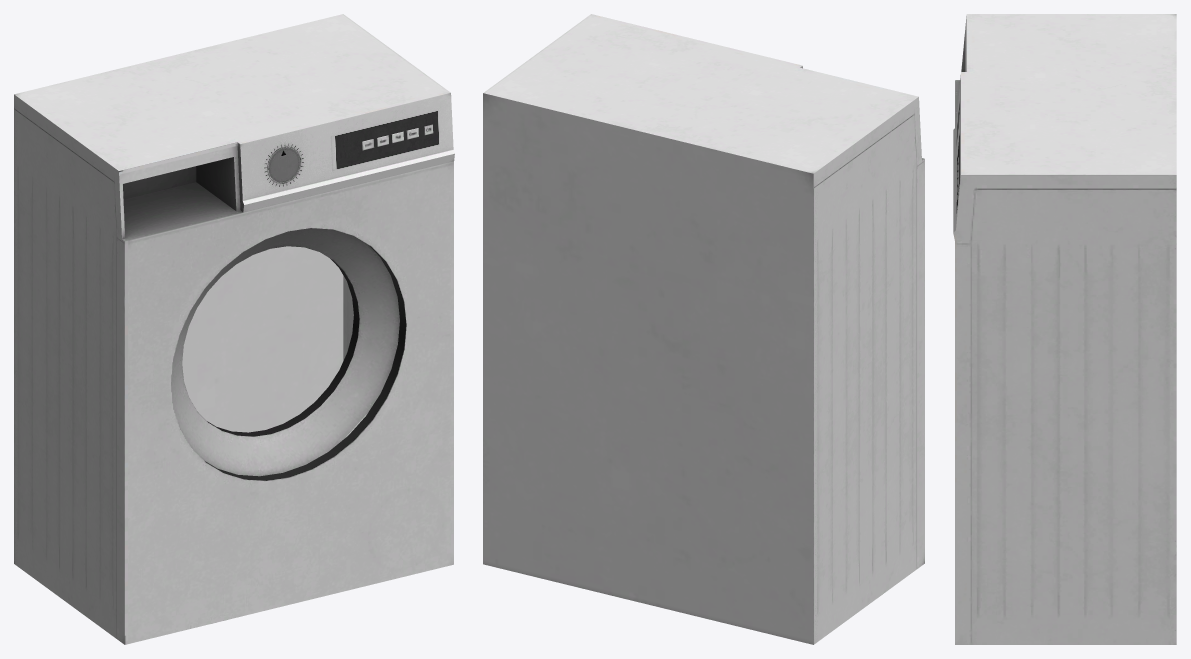
The model's file is washer.glb.
3 renders of one model, left to right at view 1: azimuth 30°, elevation 25°; view 2: azimuth 150°, elevation 25°; view 3: azimuth 270°, elevation 25°, orthographic.
Parts seen in each view (by area): view 1: Washer; view 2: Washer; view 3: Washer.
Boxes of the visible parts, left/top/right/bottom form: Washer: left=14, top=14, right=454, bottom=644; Washer: left=483, top=14, right=924, bottom=644; Washer: left=953, top=14, right=1176, bottom=644.
Bounding box in the file's own units: 0.00637 × 0.00867 × 0.00374.
Materials: 1 (1 with a texture image).
